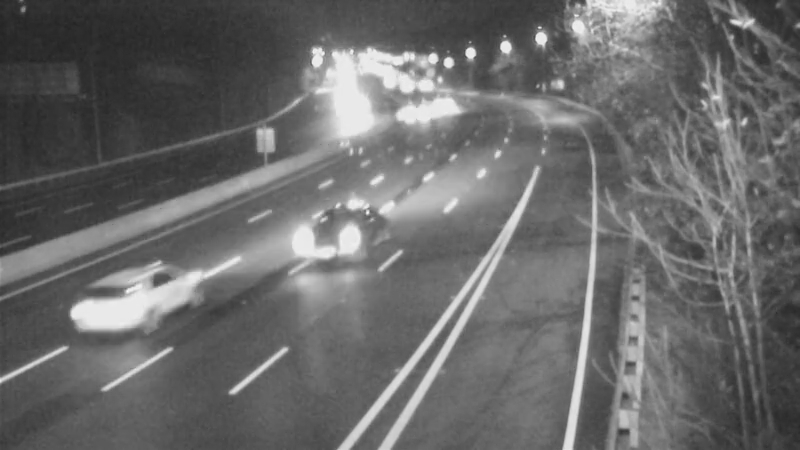vehicle: (53, 253, 163, 363), (293, 209, 373, 289), (398, 58, 448, 108), (416, 86, 466, 136), (380, 88, 430, 138), (329, 84, 379, 134)
